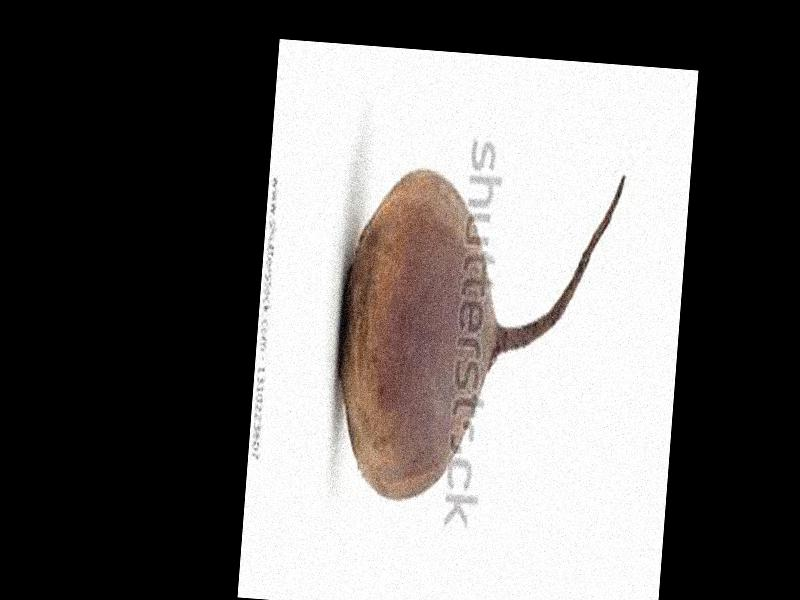Beet: (326, 156, 625, 519)
